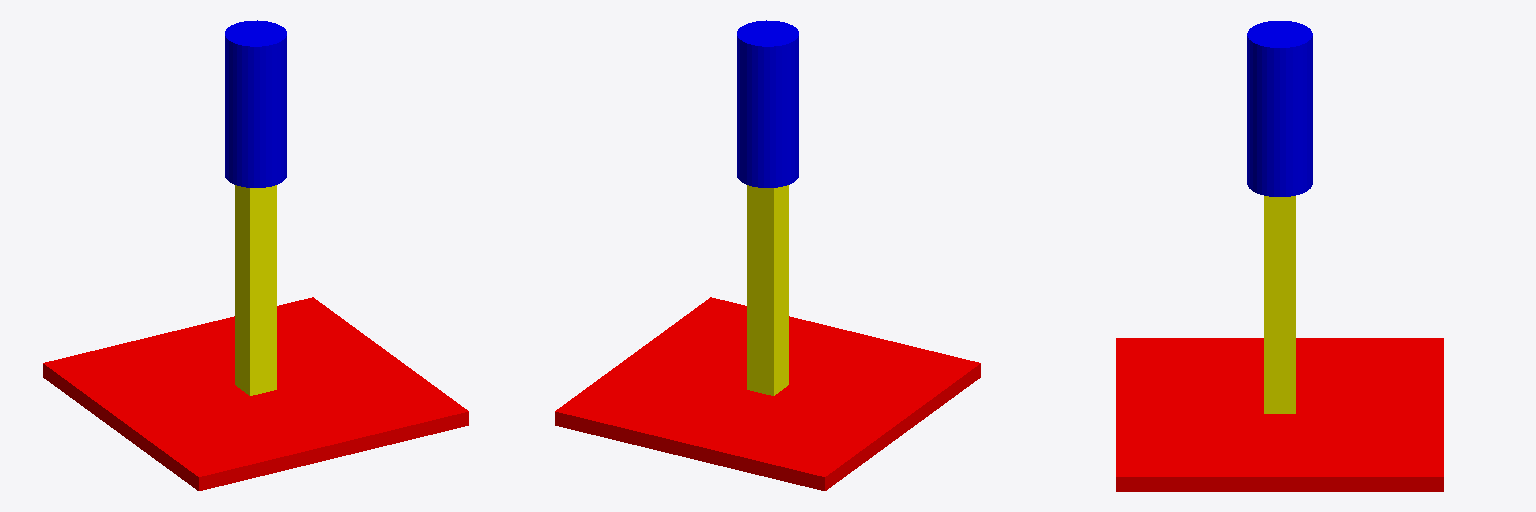
URDF robot description (pan_tilt):
<?xml version="1.0"?>
<robot name="pan_tilt">

	<material name="white">
    <color rgba="1 1 1 1"/>
  </material>

	<material name="blue">
    <color rgba="0 0 1 0.5"/>
  </material>

	<material name="yellow">
    <color rgba="1 1 0 1"/>
  </material>

	<material name="red">
    <color rgba="1 0 0 0.2"/>
  </material>


<!-- baza robotului -->
	<link name="base_link">
		
		<!-- baza robotului VIZUAL-->
    <visual>

			<!-- baza robotului GEOMETRIE-->
			<geometry>
				<box size="1 1 0.05"/>
      </geometry>
			<material name="red"/>
			<origin rpy="0 0 0" xyz="0 0 0.025"/>

    </visual>
  
	</link>

<!--

 element de tip pan -->
	<link name="pan_link">
		
		<!-- baza robotului VIZUAL-->
    <visual>

			<!-- baza robotului GEOMETRIE-->
			<geometry>
				<box size="0.1 0.1 1"/>
      </geometry>
			<material name="yellow"/>
			<origin rpy="0 0 0" xyz="0 0 0.5"/>
    </visual>
  
	</link>

<!-- element de tip pan -->
	<link name="tilt_link">
		
		<!-- baza robotului VIZUAL-->
    <visual>

			<!-- baza robotului GEOMETRIE-->
			<geometry>
				<cylinder length="0.5" radius="0.1"/>
      </geometry>
			<material name="blue"/>
			<origin rpy="0 0 0" xyz="0 0 0"/>
    </visual>
  
	</link>


<!--CUPLE: baza robotului & paralelipiped -->
	<joint name="pan_joint" type="revolute">
    <parent link="base_link"/>
    <child link="pan_link"/>
		
		<origin xyz="0 0 0.05"/>
    <axis xyz="0 0 1" />
		<limit effort="300" velocity="0.1" lower="-3.14" upper="3.14"/>
	</joint>

<!--CUPLE: element pan & element tilt -->
	<joint name="tilt_joint" type="revolute">
    <parent link="pan_link"/>
    <child link="tilt_link"/>

		<origin xyz="0 0 1"/> <!-- e relativa distanta de la originea link1 la link2 -->
    <axis xyz="0 1 0" />
		<limit effort="300" velocity="0.1" lower="0" upper="3.14"/>
	</joint>
-->

</robot>

--- Facts derived from the render (not from the file) ---
The picture shows the robot from 3 angles, left to right: view 1: azimuth 30°, elevation 25°; view 2: azimuth 150°, elevation 25°; view 3: azimuth 270°, elevation 25°; orthographic projection.
Robot: pan_tilt — 3 links, 2 joints (2 revolute); root link base_link; default pose: all joints at 0.
Links seen in each view (by area): view 1: base_link, tilt_link, pan_link; view 2: base_link, tilt_link, pan_link; view 3: base_link, tilt_link, pan_link.
Boxes of the visible links, bbox=[...] form: base_link: bbox=[43, 297, 468, 490]; tilt_link: bbox=[225, 20, 286, 187]; pan_link: bbox=[235, 185, 276, 395]; base_link: bbox=[555, 297, 980, 490]; tilt_link: bbox=[737, 20, 798, 187]; pan_link: bbox=[747, 185, 788, 395]; base_link: bbox=[1116, 338, 1443, 491]; tilt_link: bbox=[1247, 21, 1312, 196]; pan_link: bbox=[1264, 196, 1295, 413].
Size in the robot's own frame: 1 by 1 by 1.3 metres.
Geometry: primitives only (box / cylinder / sphere), no mesh files.